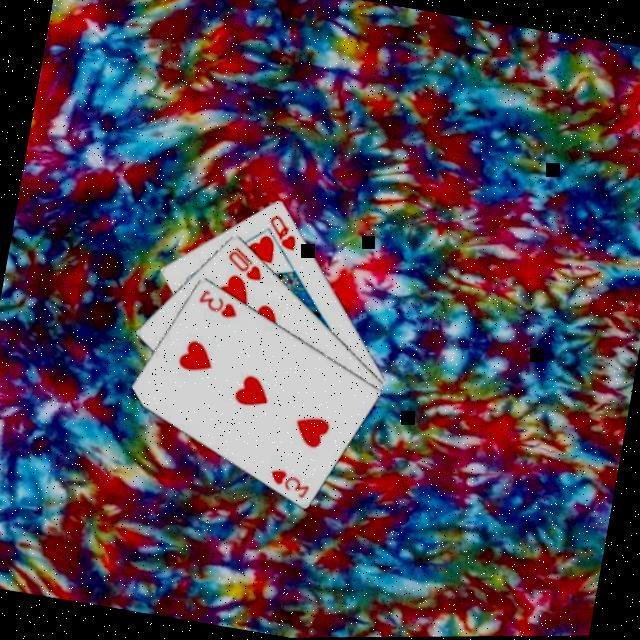10H: (219, 240, 267, 284)
3H: (261, 462, 312, 502), (190, 283, 241, 321)
QH: (260, 208, 302, 254)
